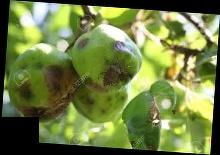rotten apple: (7, 43, 79, 128), (68, 23, 147, 94)
